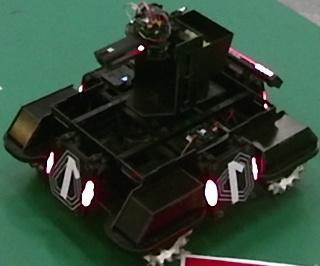armor_1: (204, 157, 258, 206), (47, 152, 94, 207)
front_1: (50, 149, 83, 210)
left_1: (216, 152, 254, 202)
